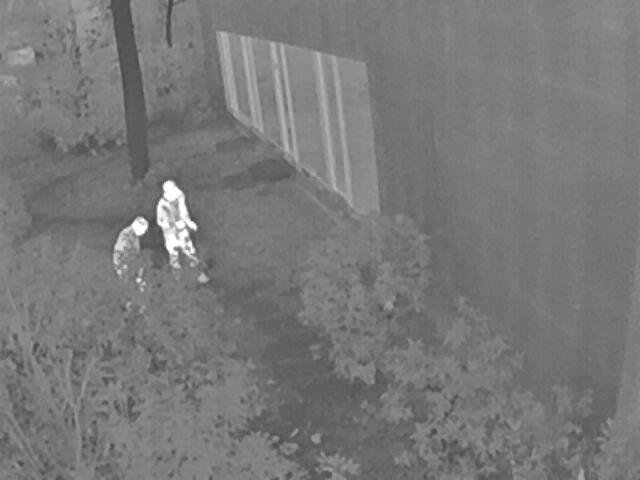person: (153, 180, 208, 282), (111, 215, 153, 290)
